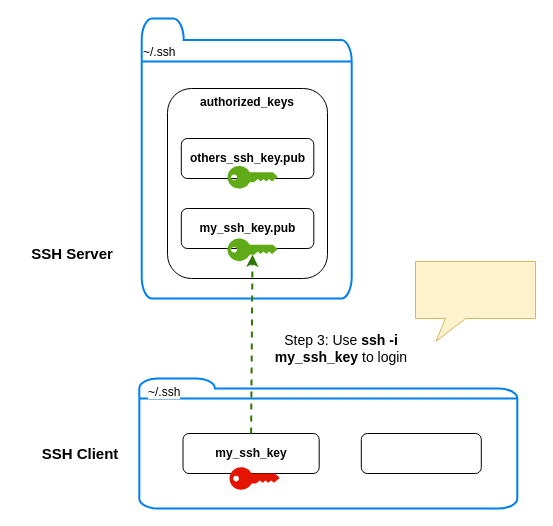
Some shapes in this 553 by 526 pixel diagram are drawn without their labels. Here are the shapes that lost their labels. From the top down, the centre of each, then its label:
the point at 475,301: Details: exchange a random number to authenticate
the point at 420,453: known_hosts
